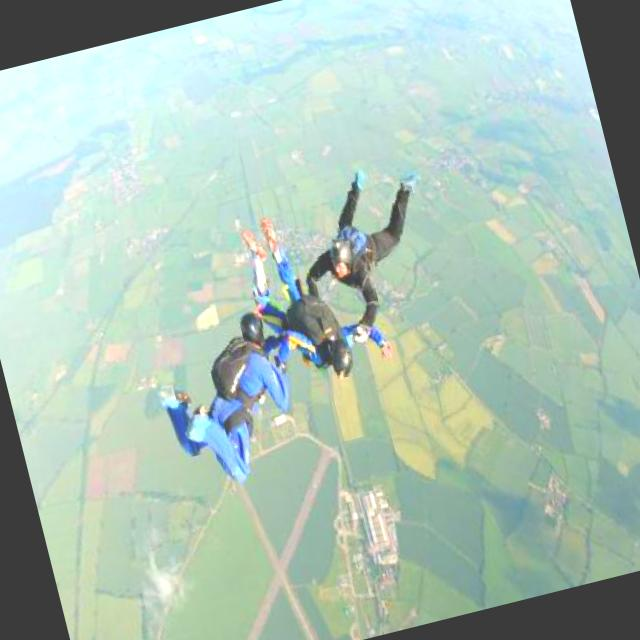Person: (142, 289, 326, 509), (282, 152, 456, 349), (234, 198, 397, 397)
